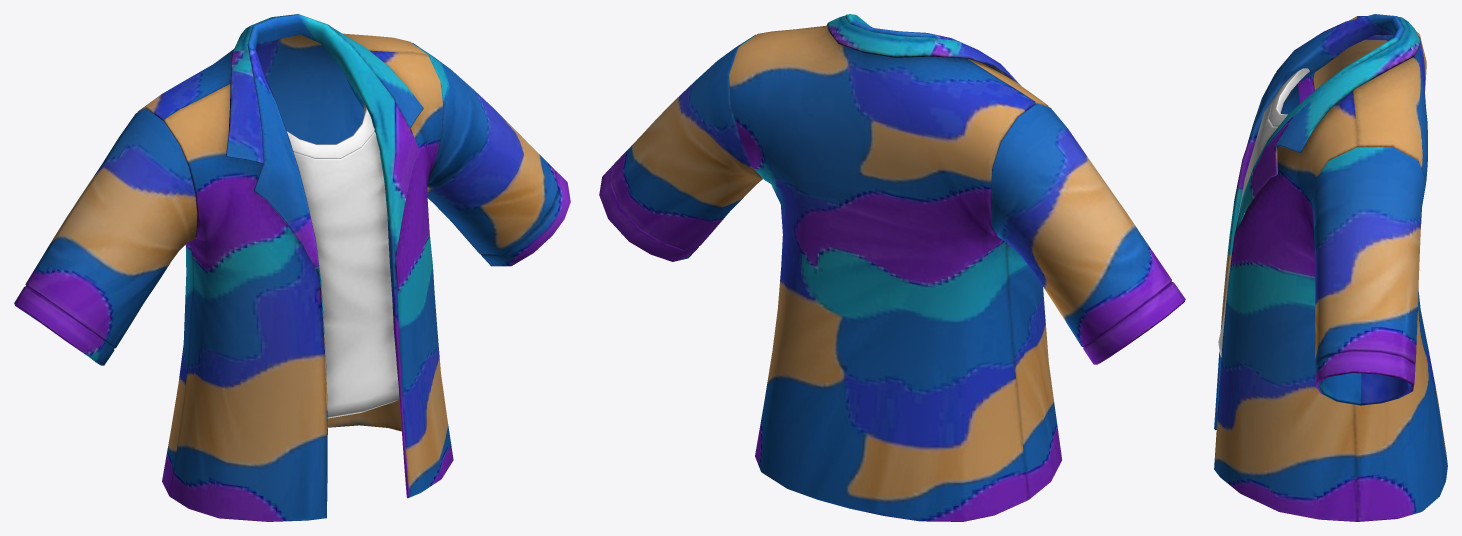
File: shirt-min01.glb
3 views of the same model, side by side, from view 1: azimuth 30°, elevation 25°; view 2: azimuth 150°, elevation 25°; view 3: azimuth 270°, elevation 25° (orthographic). The views are drawn at different scales.
Parts seen in each view (by area): view 1: TOP_001; view 2: TOP_001; view 3: TOP_001.
Boxes of the visible parts, bbox=[...] form: TOP_001: bbox=[14, 14, 570, 521]; TOP_001: bbox=[599, 14, 1185, 521]; TOP_001: bbox=[1214, 14, 1447, 521].
Size of the model in its own units: 0.4564 by 0.3566 by 0.1717.
Materials: 1 (1 with a texture image).
